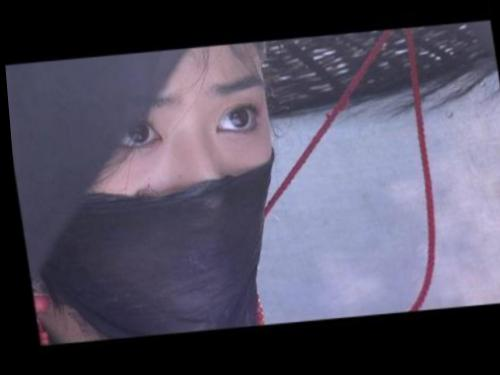WRONG: (56, 48, 294, 335)
